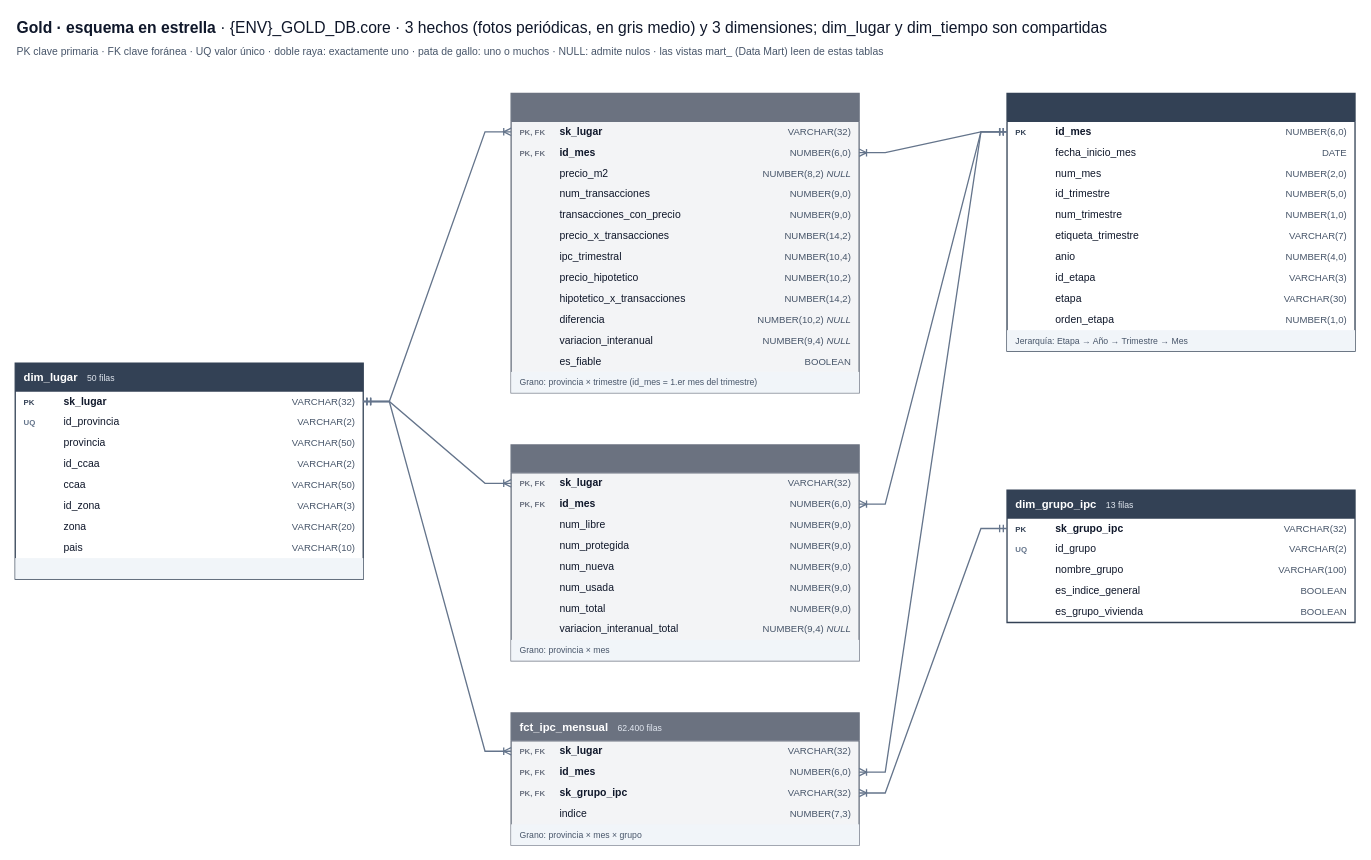
Some shapes in this 1371 by 860 pixel diagram are drawn without their labels. Here are the shapes that lost their labels. From the top down, the box of each, then its label:
(1006, 92, 1355, 351): dim_tiempo 96 filas
(510, 92, 859, 393): fct_suelo_trimestral 1.600 filas
(15, 558, 363, 579): Jerarquía: País → Zona → CCAA → Provincia
(510, 444, 859, 661): fct_compraventa_vivienda_mensual 4.800 filas
